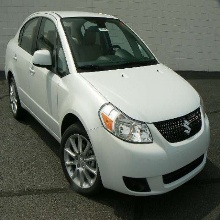no damage: (4, 10, 211, 198)
